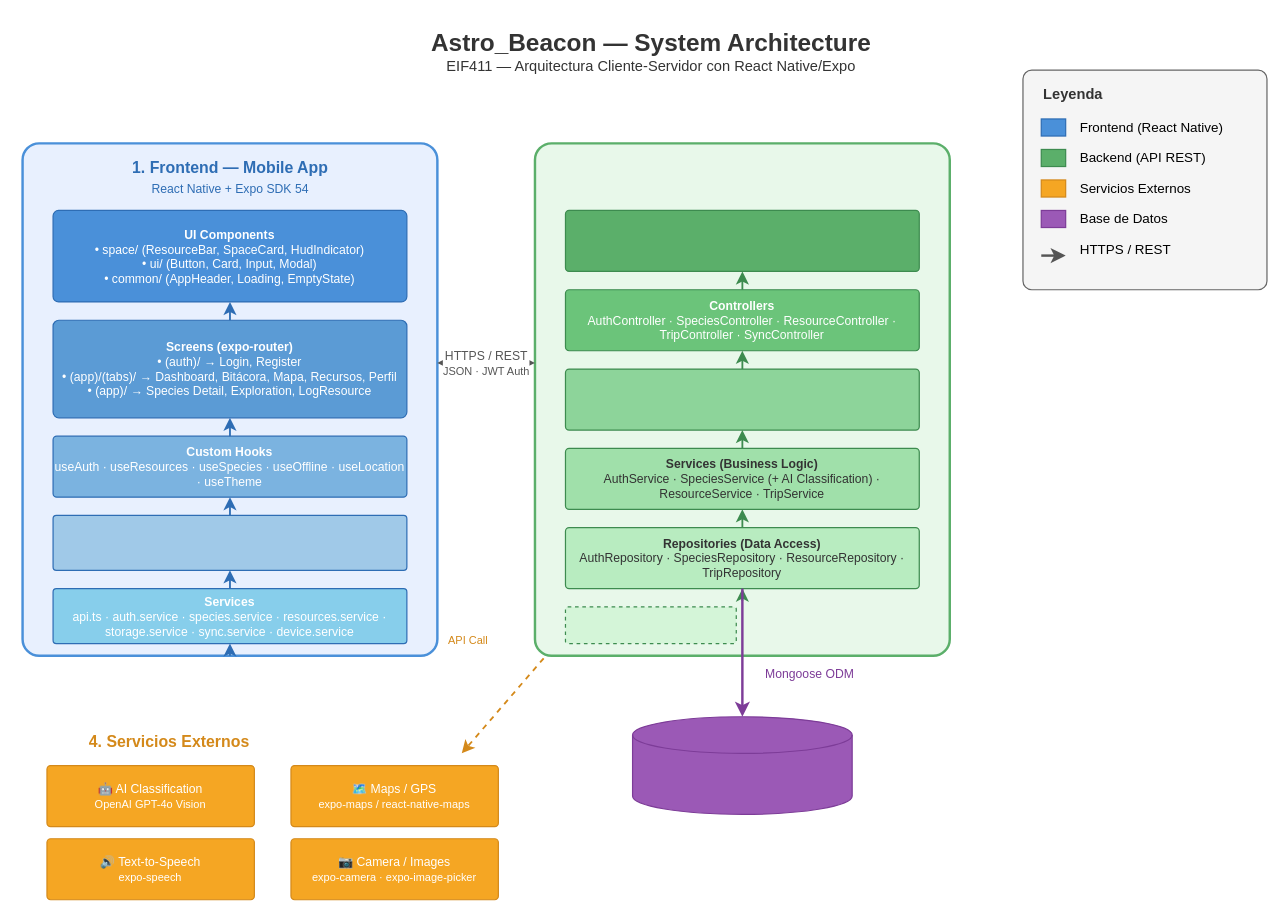
This 1288x921 diagram has some shape labels left out. Each missing label, with the box of its shape:
2. Backend — API REST Node.js + Express + MongoDB: (533, 142, 950, 656)
3. MongoDB Collections: users, species, resources, trips, sync_queue: (631, 716, 852, 814)
Middleware Auth (JWT) · Validation (Zod) · Error Handler · CORS · Rate Limiter: (564, 368, 919, 430)
Routes (v1) /auth/* · /species/* · /resources/* · /trips/* · /sync/*: (564, 209, 919, 271)
State (Zustand Stores) authStore · resourceStore · speciesStore · syncStore: (52, 514, 407, 570)
📄 Swagger / OpenAPI: (564, 606, 736, 644)
